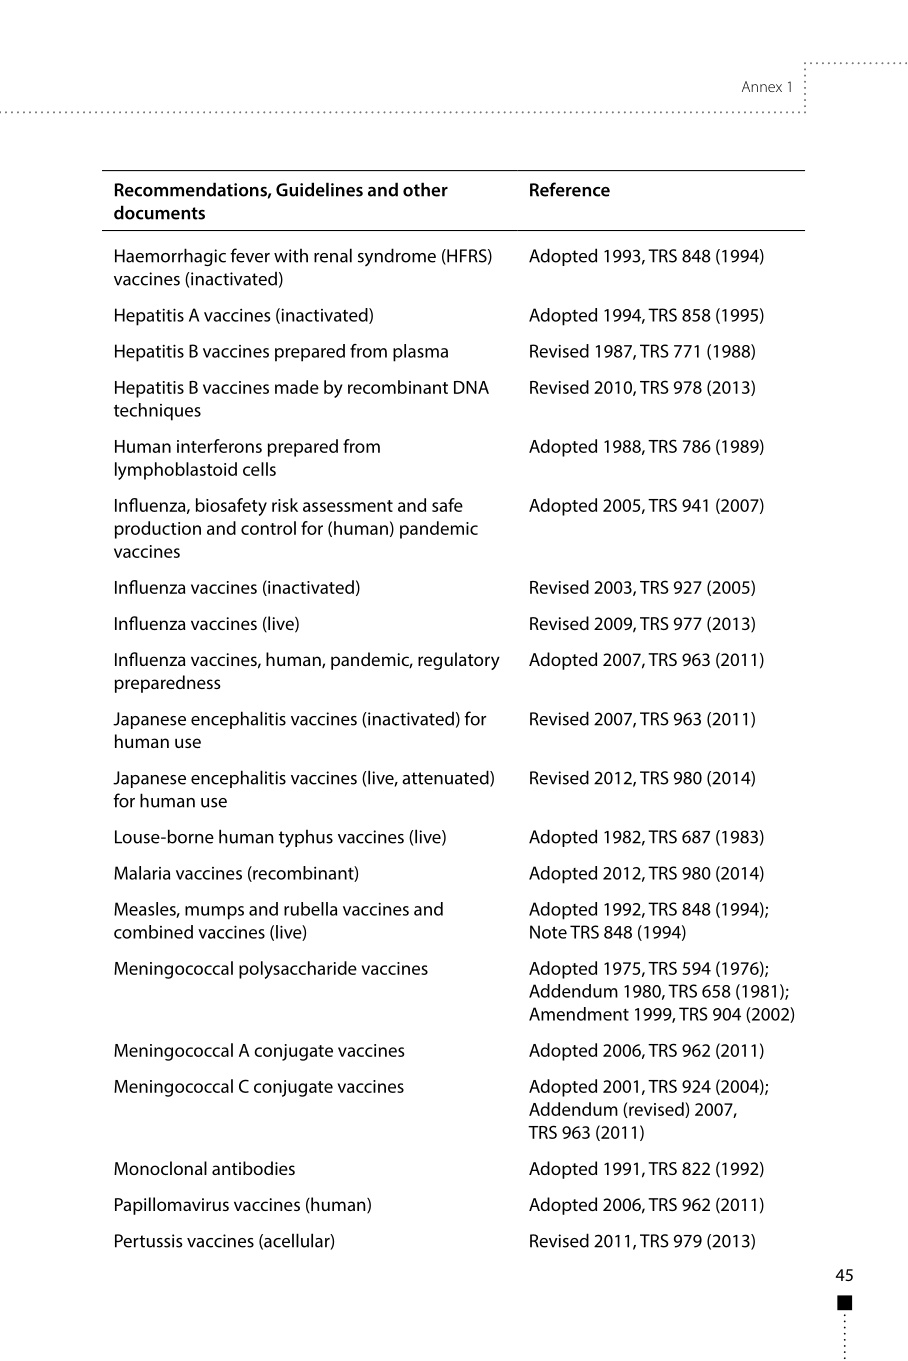partial_lined: (100, 169, 808, 1261)
